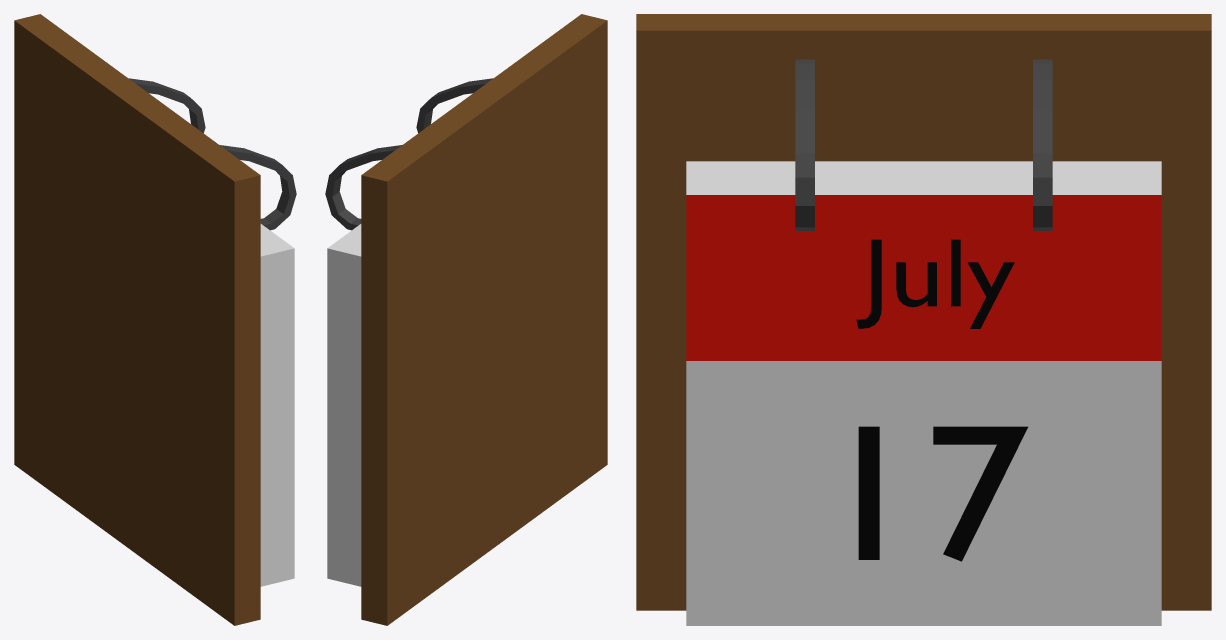
File: calendar.fbx
3 renders of one model, left to right at view 1: azimuth 30°, elevation 25°; view 2: azimuth 150°, elevation 25°; view 3: azimuth 270°, elevation 25°, orthographic. The views are drawn at different scales.
Parts seen in each view (by area): view 1: Cube; view 2: Cube; view 3: Cube, Text, July.
Part boxes in pixels (<box>): Cube: <box>14,14,296,625</box>; Cube: <box>325,14,607,625</box>; Cube: <box>636,14,1211,625</box>; Text: <box>858,426,1027,561</box>; July: <box>856,239,1014,328</box>.
Size of the model in its own units: 258 by 890 by 800.
